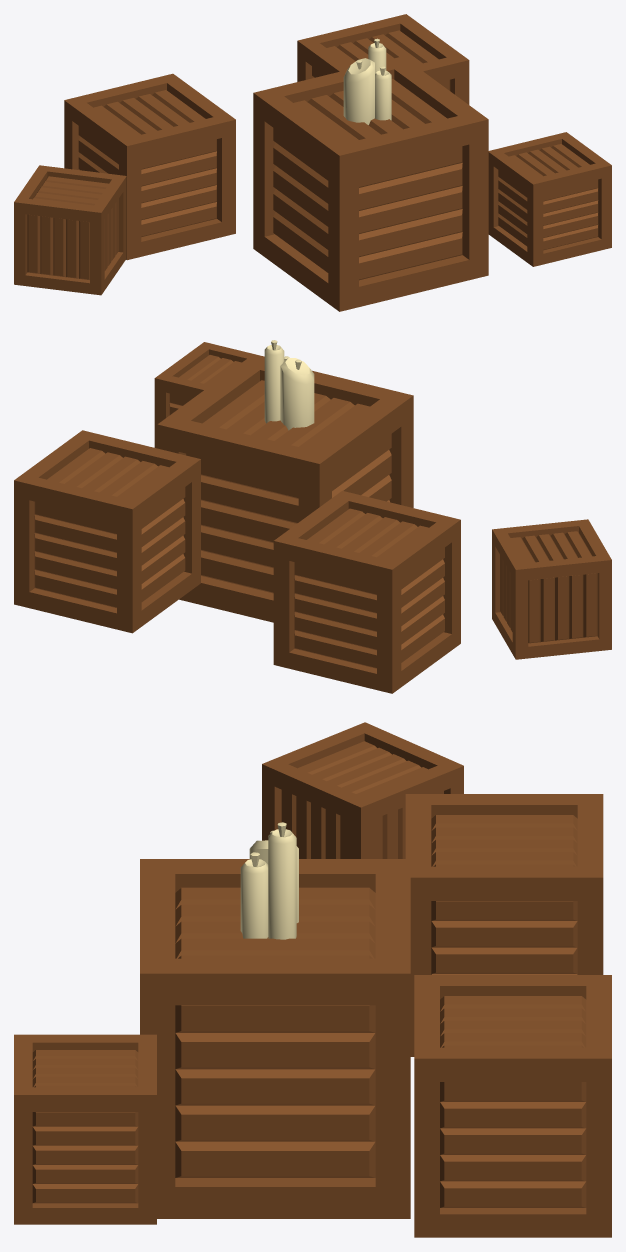
File: бокси.fbx
The picture shows the model from 3 angles, top to bottom: view 1: azimuth 30°, elevation 25°; view 2: azimuth 150°, elevation 25°; view 3: azimuth 270°, elevation 25°; orthographic projection. The views are drawn at different scales.
Visible parts, largest first — view 1: wooden box.014, wooden box.013, wooden box.015, wooden box.012, wooden box.016, wooden box.011; view 2: wooden box.014, wooden box.013, wooden box.016, wooden box.012, wooden box.015, wooden box.011; view 3: wooden box.014, wooden box.016, wooden box.013, wooden box.015, wooden box.012, wooden box.011.
Part boxes in pixels (<box>): wooden box.014: <box>253,56,488,311</box>; wooden box.013: <box>64,73,235,260</box>; wooden box.015: <box>488,132,611,266</box>; wooden box.012: <box>14,165,126,295</box>; wooden box.016: <box>297,14,469,104</box>; wooden box.011: <box>343,38,391,124</box>; wooden box.014: <box>157,356,413,622</box>; wooden box.013: <box>273,490,460,693</box>; wooden box.016: <box>14,430,200,633</box>; wooden box.012: <box>492,519,611,659</box>; wooden box.015: <box>154,342,264,448</box>; wooden box.011: <box>264,340,314,430</box>; wooden box.014: <box>140,859,410,1218</box>; wooden box.016: <box>414,975,611,1237</box>; wooden box.013: <box>405,794,603,1056</box>; wooden box.015: <box>14,1034,156,1224</box>; wooden box.012: <box>262,722,463,858</box>; wooden box.011: <box>240,822,298,939</box>.
Size of the model in its own units: 1108 by 477 by 751.
